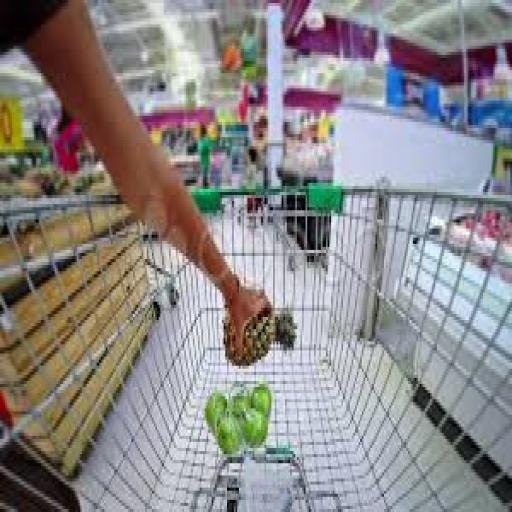shopping_cart: (0, 186, 512, 512)
